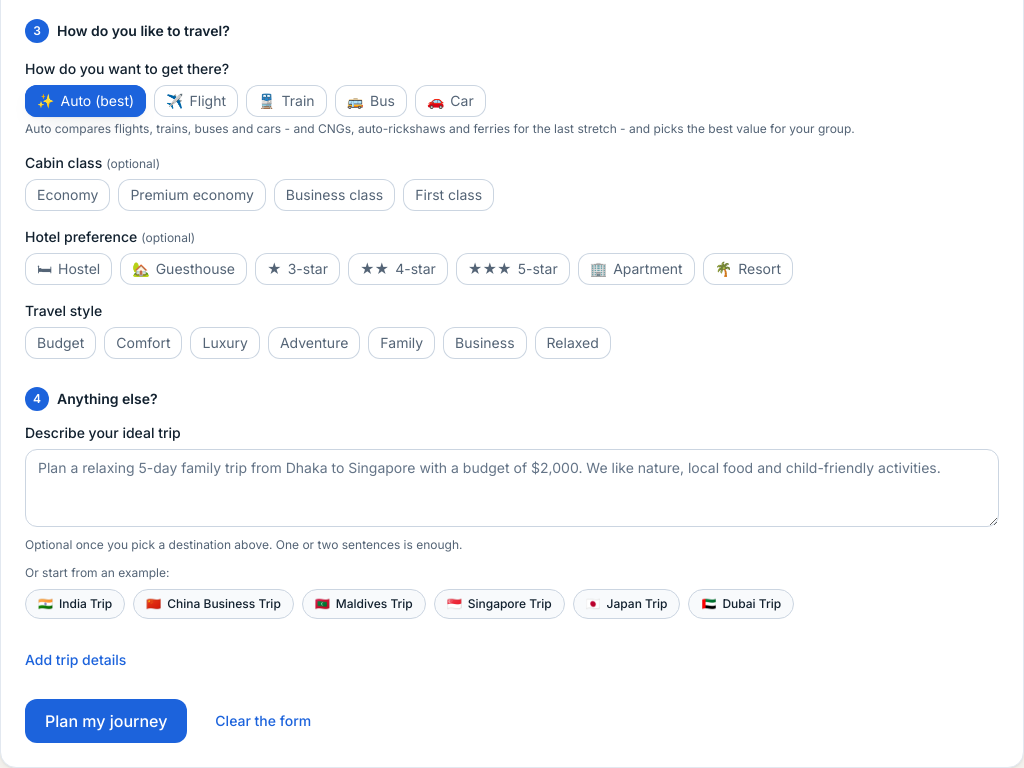
Scenario: PlannerForm › refuses to submit an empty description
(page scrolled)
Click the button "Plan my journey" at (106, 721), box 25,699 -> 187,743
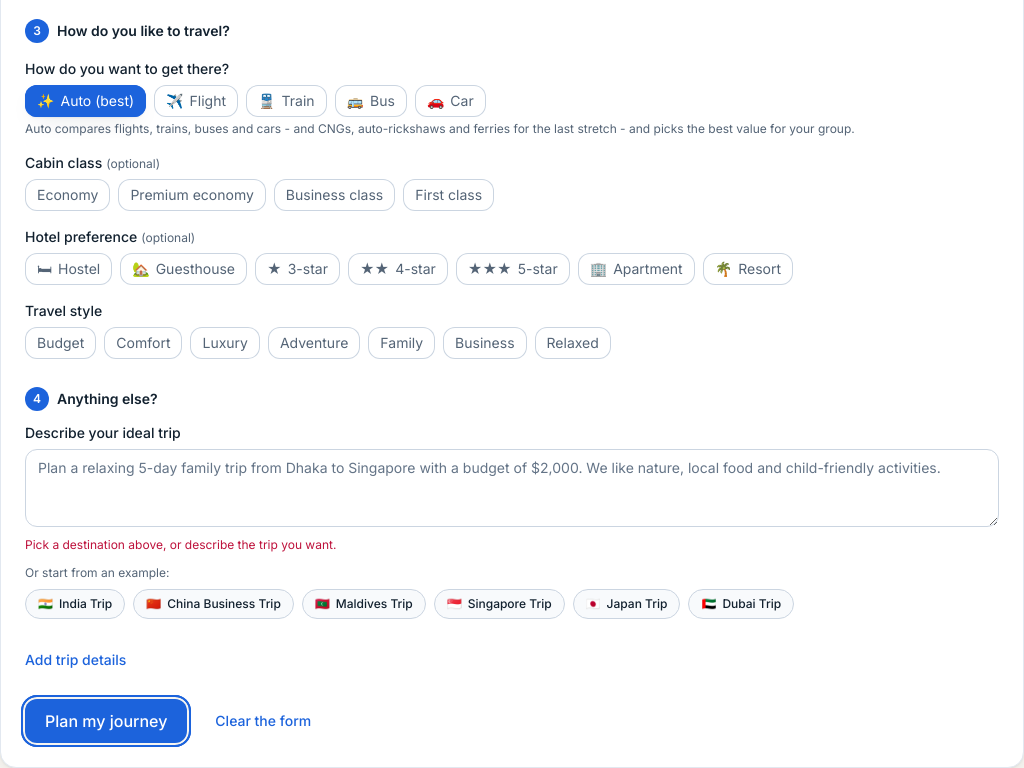
Expected: the message "Pick a destination above, or describe the trip you want." is shown, 25,537 -> 336,552
